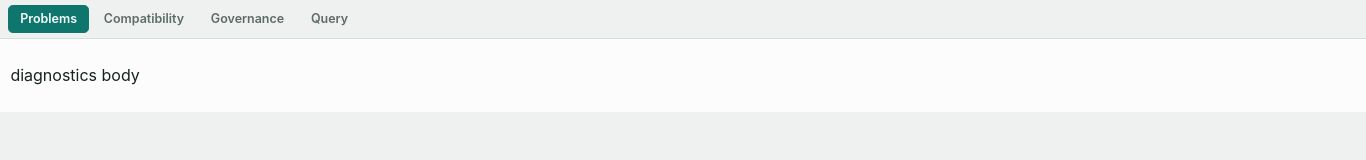
Scenario: BottomPanel › shows the query tab and body on click
The width and height of the screenshot is (1366, 160).
Expected: the text "query body" is not shown
Click the tab "Query" at (329, 19), box [299,5,360,33]
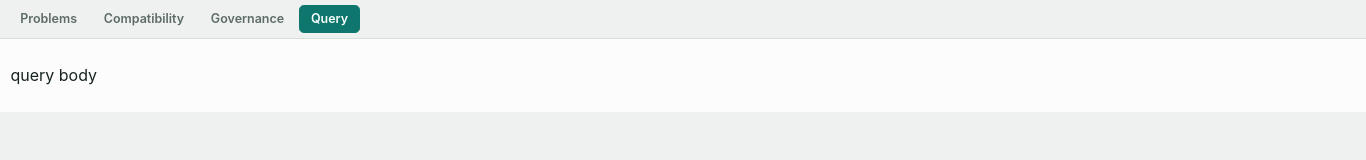
Now the text "query body" is shown, box [10,65,97,85]
Now the text "diagnostics body" is gone
